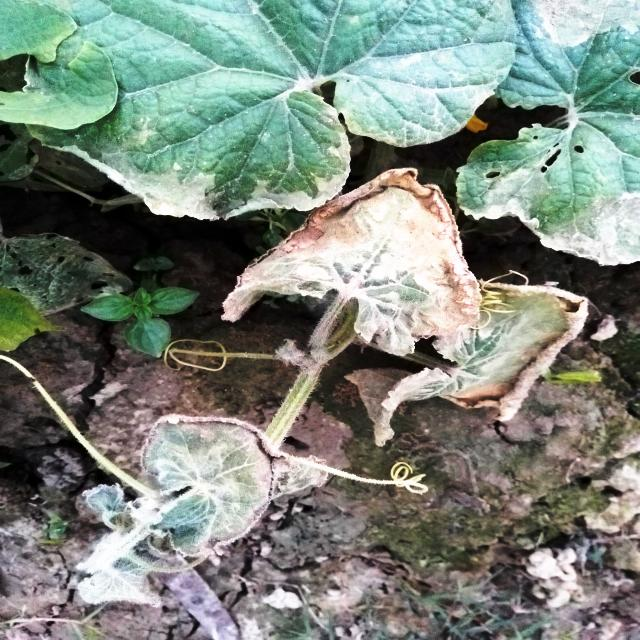Bacterial-Wilt: (217, 164, 486, 356), (339, 280, 593, 451), (137, 413, 329, 560)
